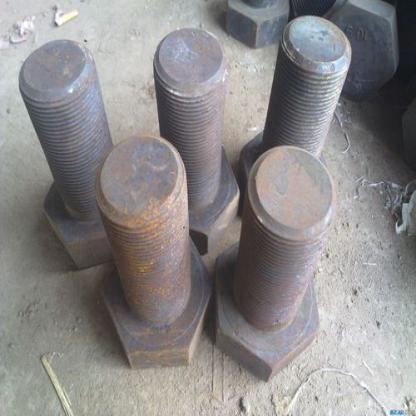FOD: (92, 133, 214, 367), (216, 144, 336, 381), (16, 36, 122, 270)
